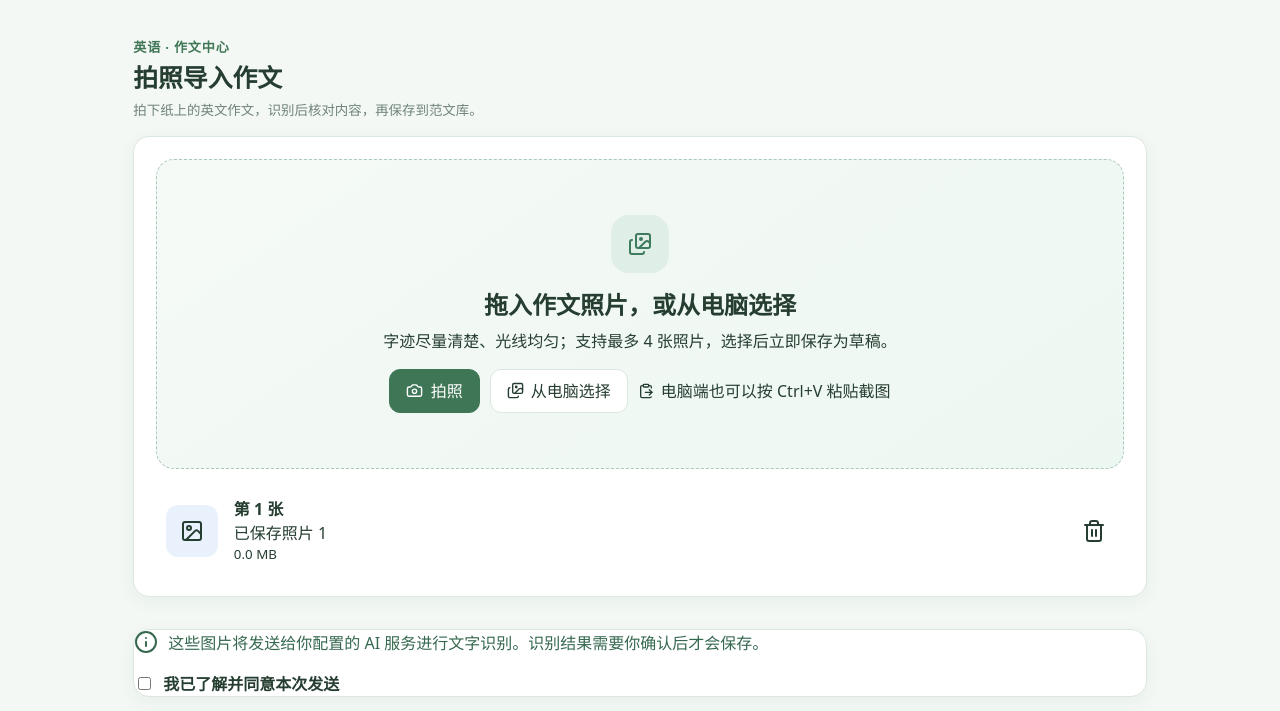
it: checks AI readiness before sending and offers the settings page
Expected: the text "已保存照片 1" is shown, [234,522,327,544]
Click the checkbox labelled "我已了解并同意本次发送". click: (145, 684)
box: [138,677,151,690]
(page scrolled)
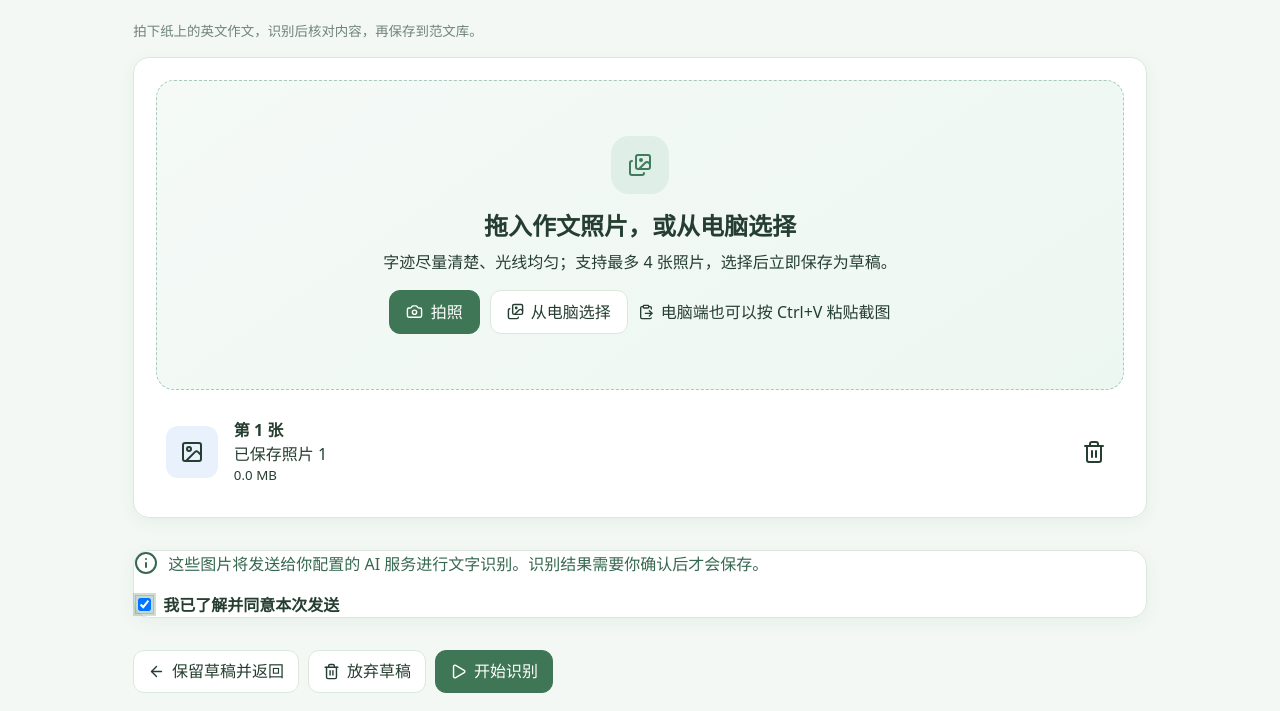
Click the button "开始识别". click: (494, 671)
box: [435,650,553,693]
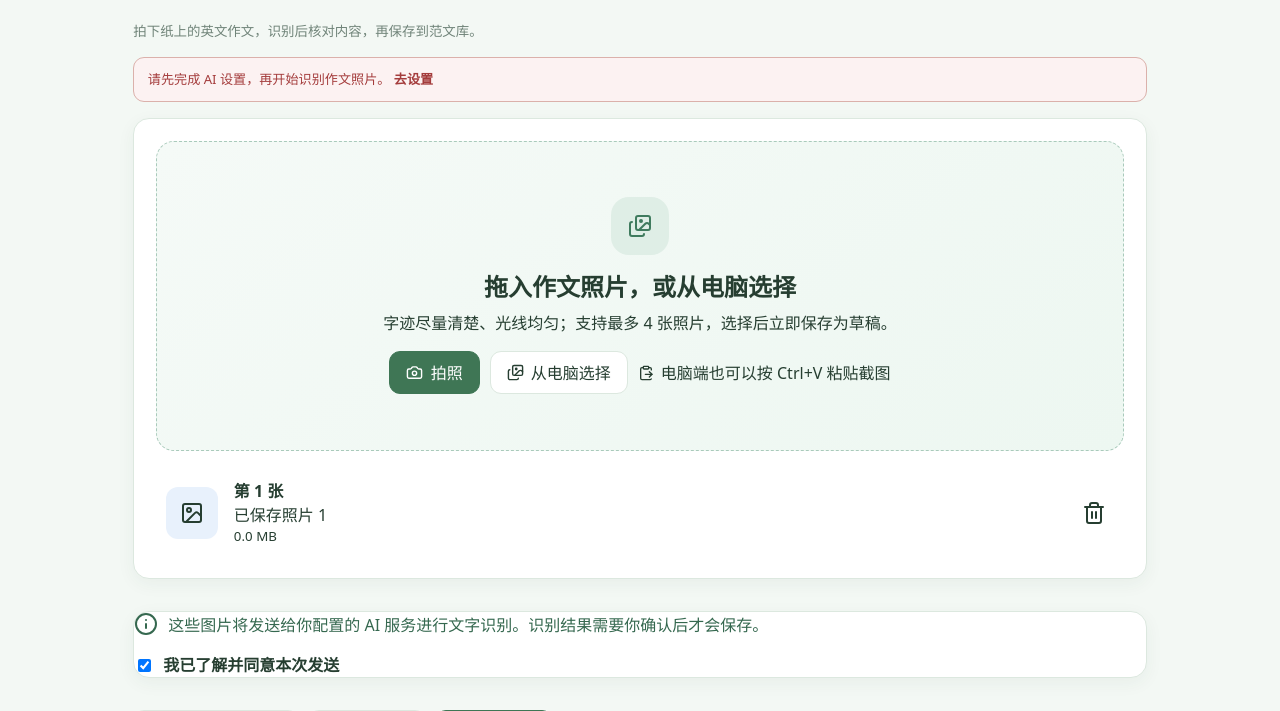
Now the message shows "请先完成 AI 设置", box [148,70,390,88]
